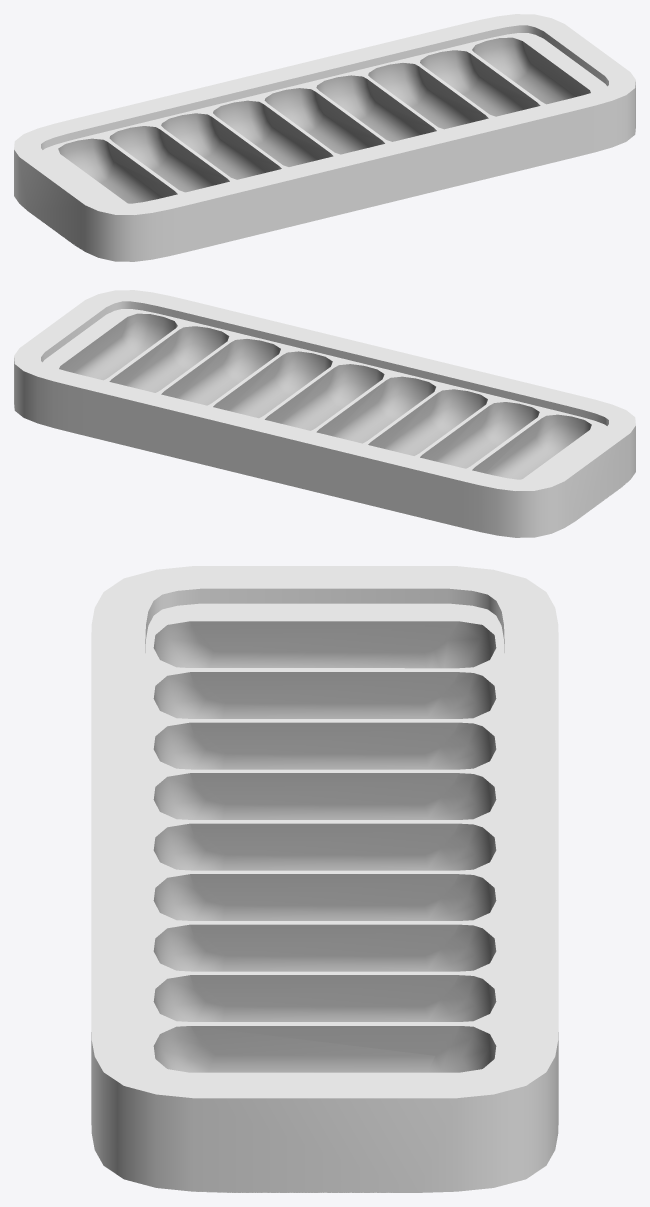
File: carrier for bricks.fbx
3 renders of one model, top to bottom at view 1: azimuth 30°, elevation 25°; view 2: azimuth 150°, elevation 25°; view 3: azimuth 270°, elevation 25°, orthographic. The views are drawn at different scales.
Visible parts, largest first — view 1: Carrier; view 2: Carrier; view 3: Carrier.
Part boxes in pixels (bbox=[...]): Carrier: bbox=[14, 14, 635, 261]; Carrier: bbox=[14, 290, 635, 537]; Carrier: bbox=[91, 566, 558, 1192].
Bounding box in the file's own units: 5.84 × 0.4759 × 2.16.
Materials: 1 (1 with a texture image).
